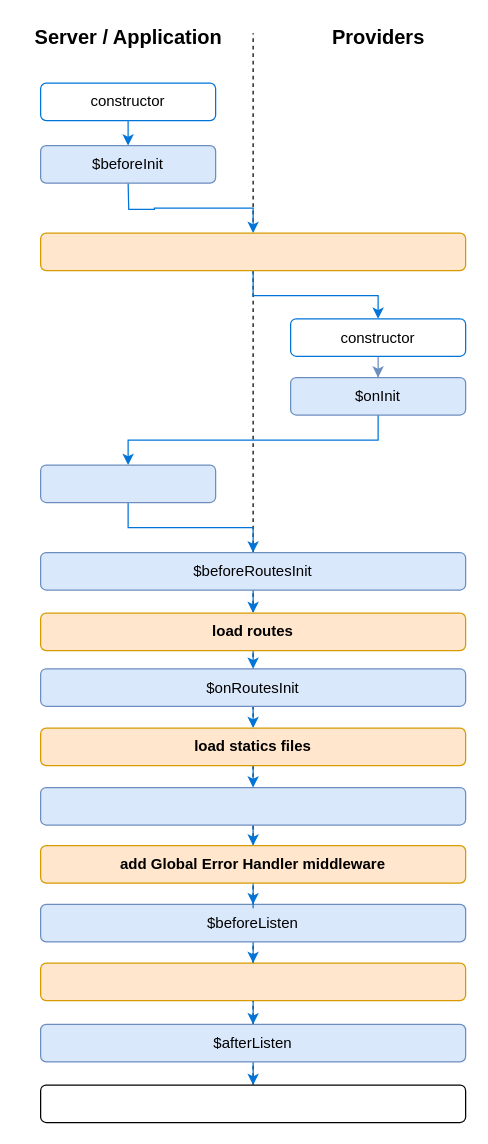
Some shapes in this 488 by 1144 pixel diagram are drawn without their labels. The shapes that lost their labels are listed below. From the top down, each one's box as (x1, y1, x2, y2) in pixels, then its label:
(39, 232, 466, 271): load injector, build provider and controllers
(39, 464, 216, 502): $aftertInit
(39, 786, 466, 825): $afterRoutesInit
(39, 962, 466, 1001): listen server
(39, 1084, 466, 1122): $onReady
